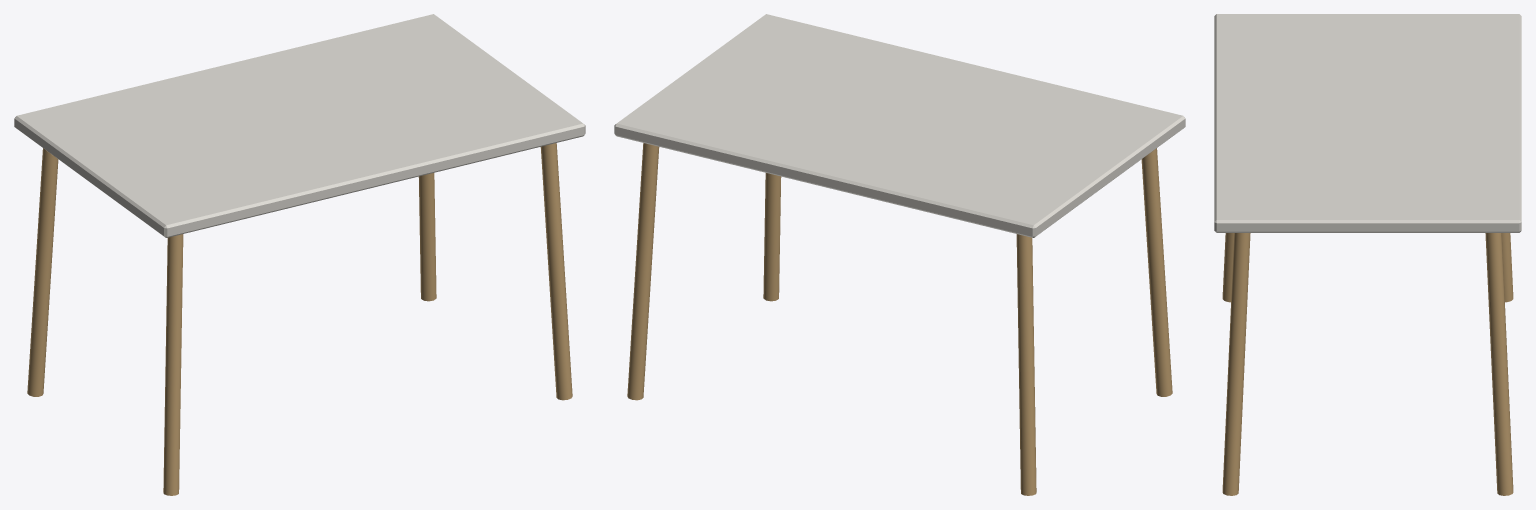
Rendered from i_table_3.glb.
3 views of the same model, side by side, from view 1: azimuth 30°, elevation 25°; view 2: azimuth 150°, elevation 25°; view 3: azimuth 270°, elevation 25° (orthographic).
Parts seen in each view (by area): view 1: o, o.003, o.001, o.002, o.004; view 2: o, o.004, o.002, o.001, o.003; view 3: o, o.003, o.004, o.001, o.002.
Part boxes in pixels (box(x1,y1,x2,y2)): o: box(14, 14, 585, 237); o.003: box(540, 143, 572, 400); o.001: box(163, 234, 183, 495); o.002: box(27, 148, 58, 396); o.004: box(418, 173, 436, 301); o: box(614, 14, 1185, 237); o.004: box(627, 143, 659, 400); o.002: box(1016, 234, 1036, 495); o.001: box(1141, 148, 1172, 396); o.003: box(763, 173, 781, 301); o: box(1214, 14, 1521, 232); o.003: box(1222, 233, 1250, 495); o.004: box(1485, 233, 1513, 495); o.001: box(1222, 233, 1234, 302); o.002: box(1501, 233, 1513, 302).
Size of the model in its own units: 1.2 by 0.7511 by 0.75.
